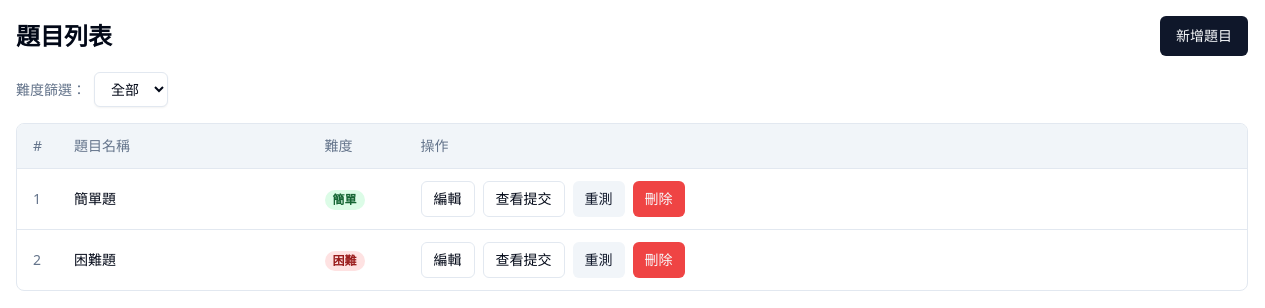
Test: ProblemListPage › rejudge shows 已觸發 0 筆重測 when submissions_triggered is 0
Expected: the text "困難題" is shown, [58, 230, 308, 290]
Click the button "重測" in the row of "困難題" at x=598, y=260, box [572, 242, 624, 278]
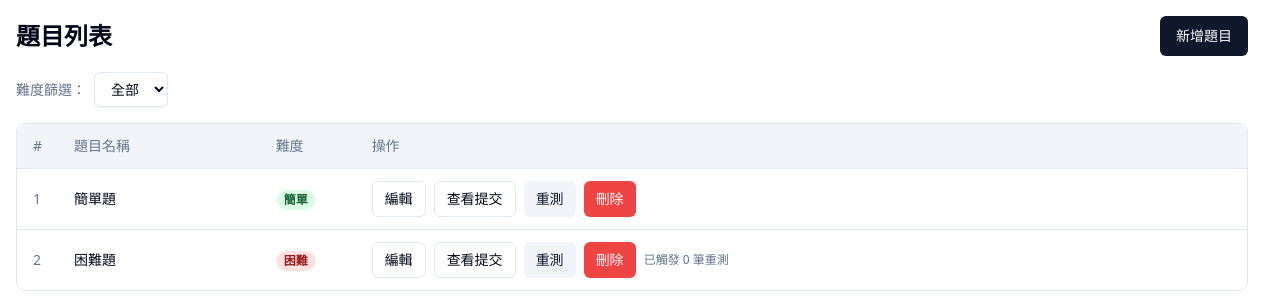
Now the text "已觸發 0 筆重測" is shown, box [644, 252, 729, 268]
